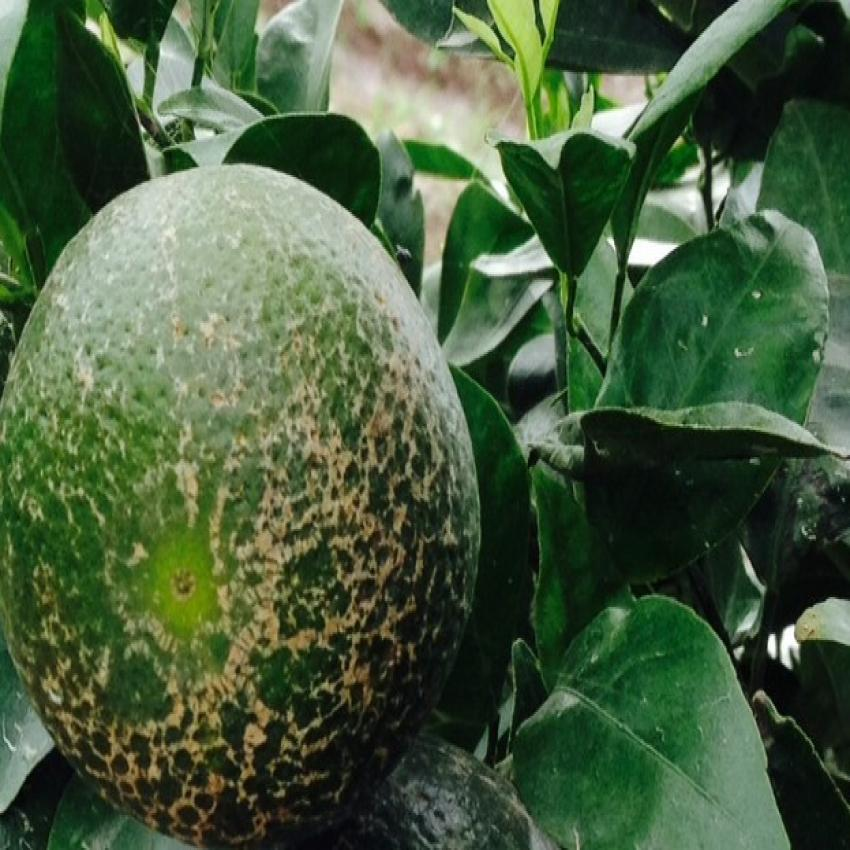Mal estado: (0, 152, 478, 838)
